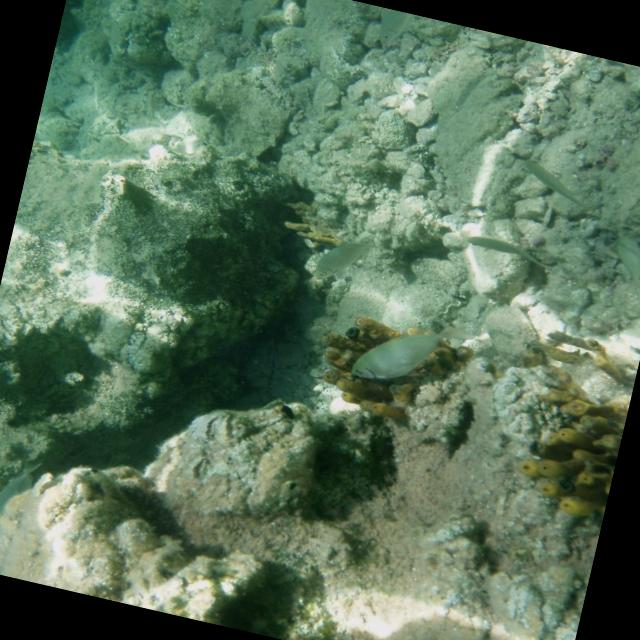Sokar Baligi: (336, 290, 482, 405)
